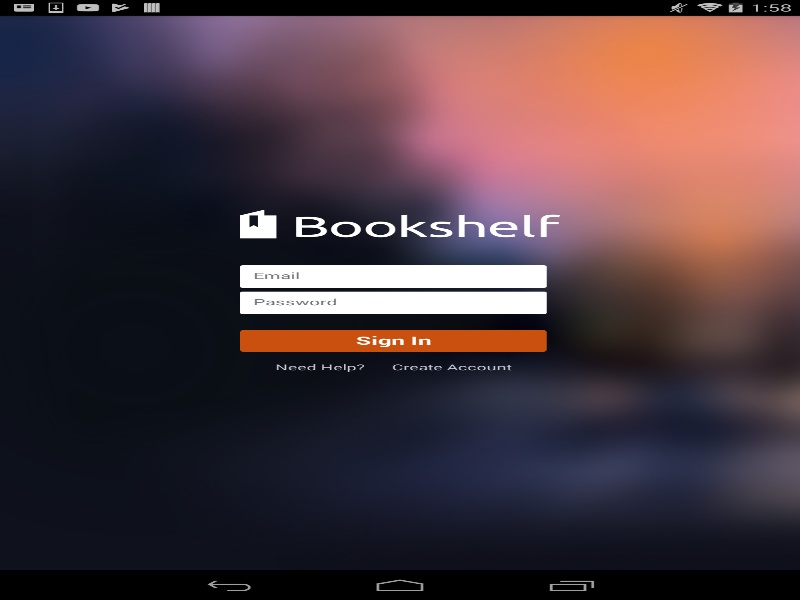Button: (240, 329, 546, 352), (391, 352, 511, 382), (275, 352, 391, 382)
Input: (240, 291, 546, 314), (240, 265, 546, 287)
